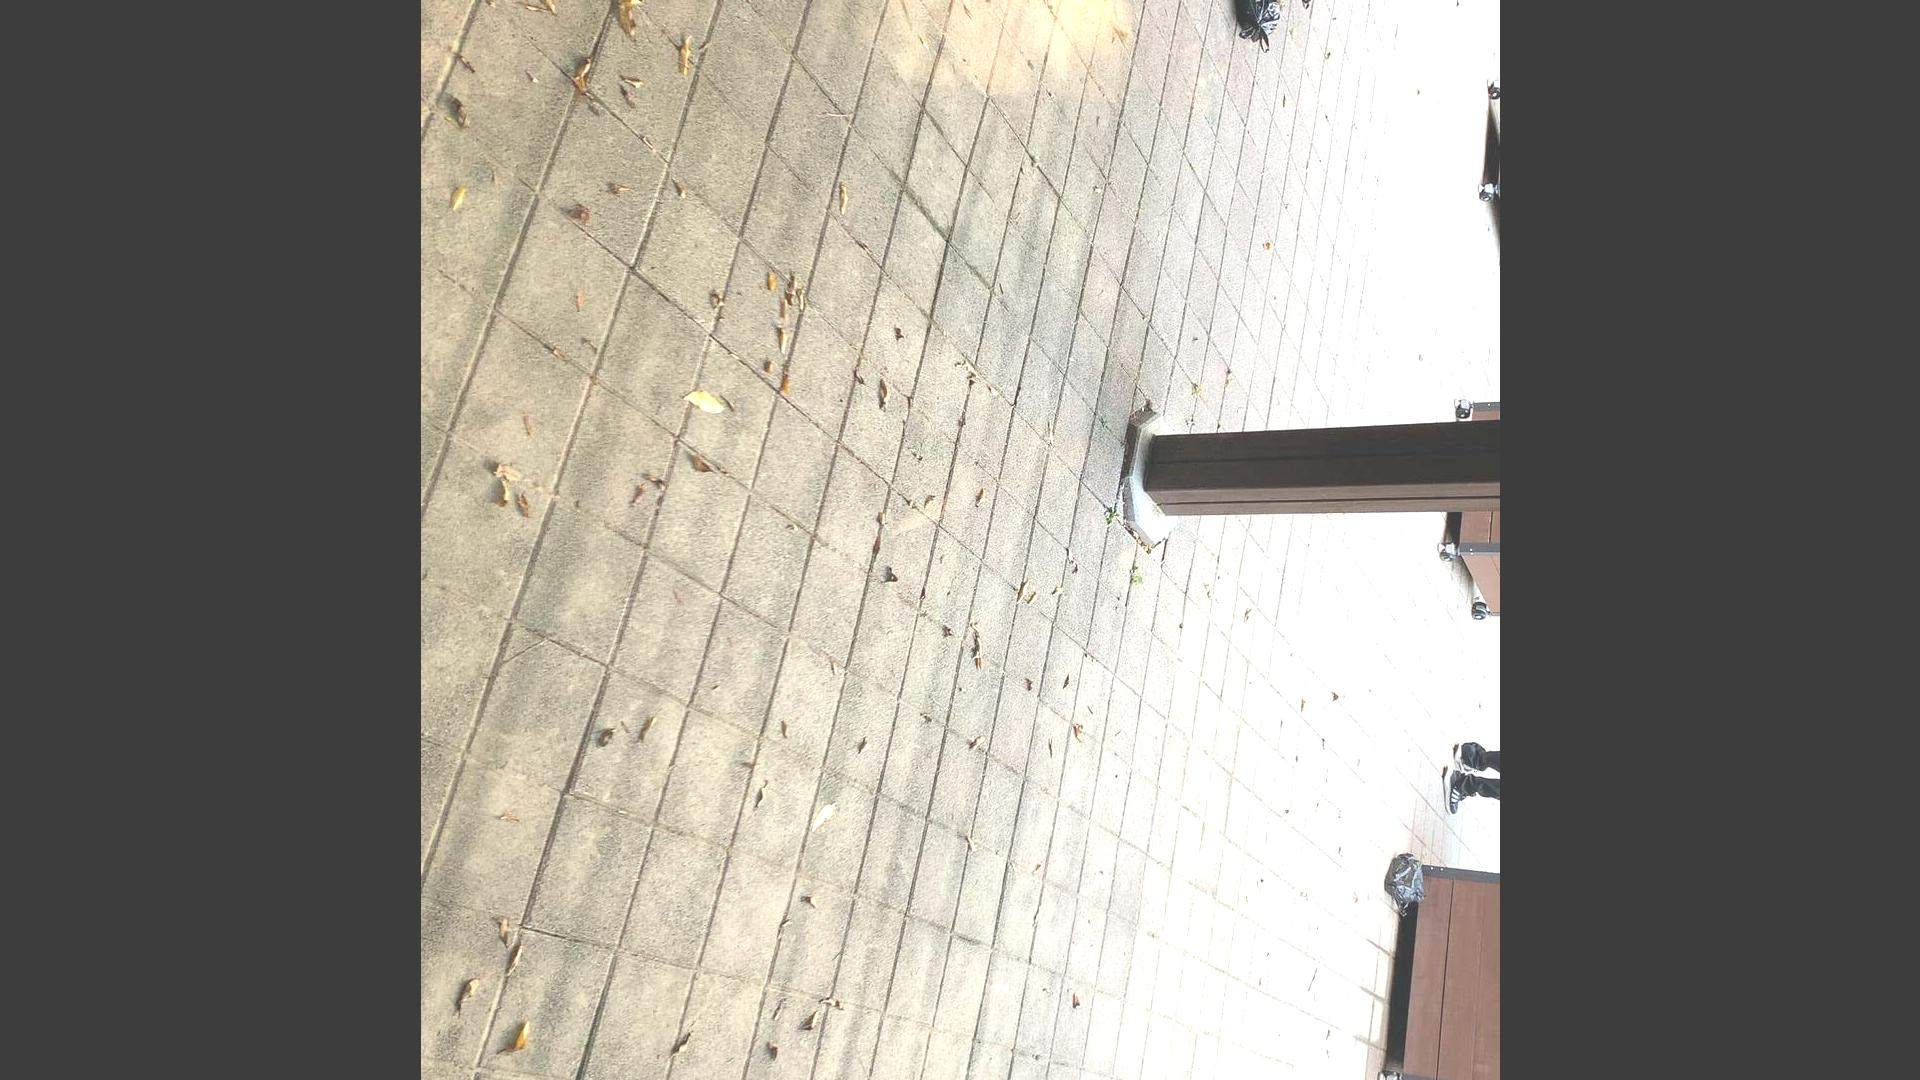black_bag: (1228, 0, 1284, 55)
